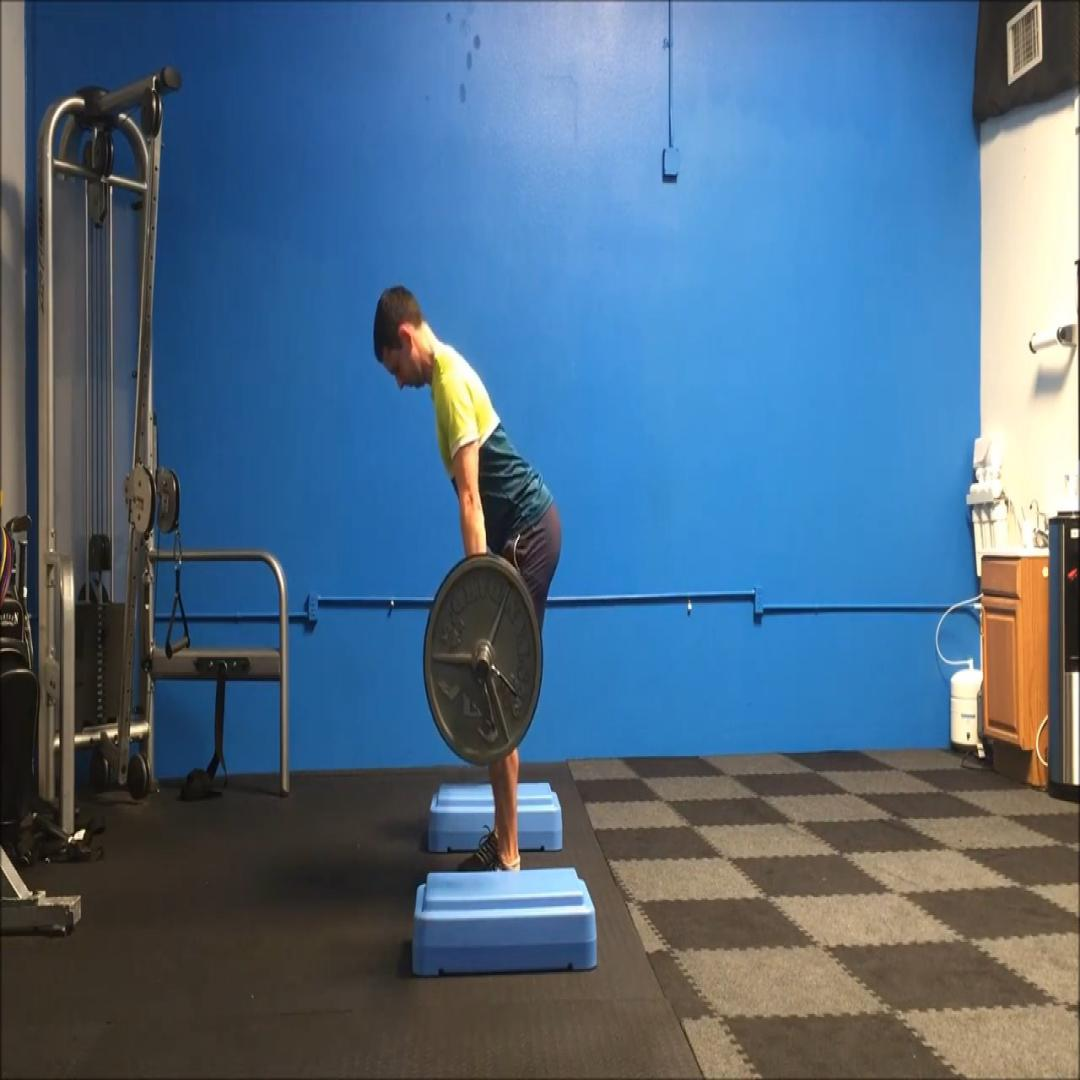Bar: (474, 657, 490, 685)
Barbell: (424, 555, 543, 767)
